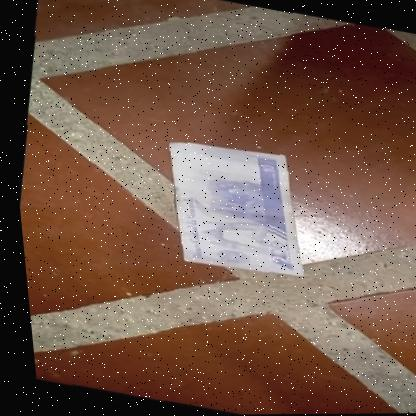ten-back-vef: (142, 131, 321, 284)
